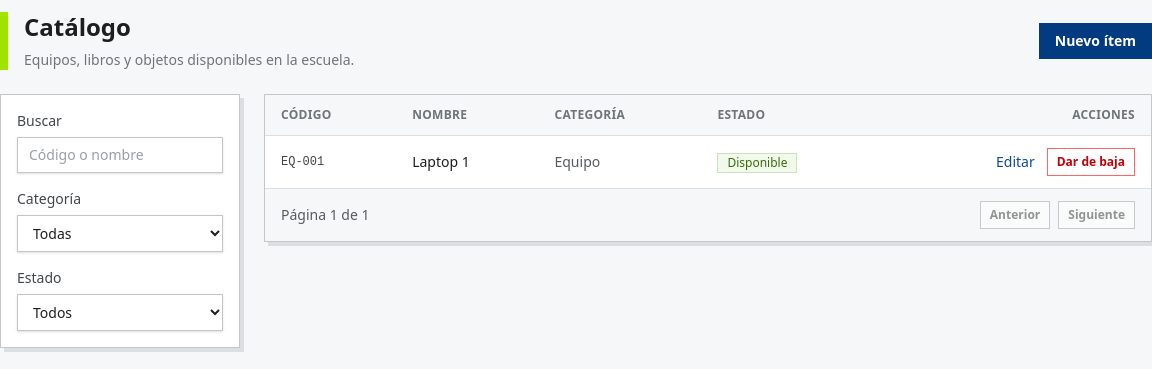
Test: CatalogPage › muestra el mensaje del backend si no se puede dar de baja
The image size is (1152, 369).
Expected: the text "Laptop 1" is shown, 412,152 -> 470,171
Step 1. Click the button "Dar de baja" → [1091, 162], box 1047,148 -> 1135,176
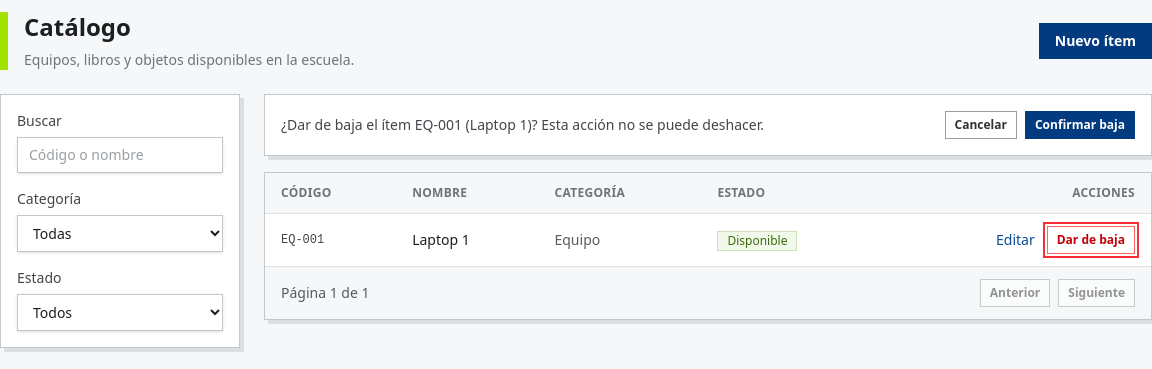
Step 2. Click the button "Confirmar baja" → [1080, 125], box 1025,111 -> 1135,139
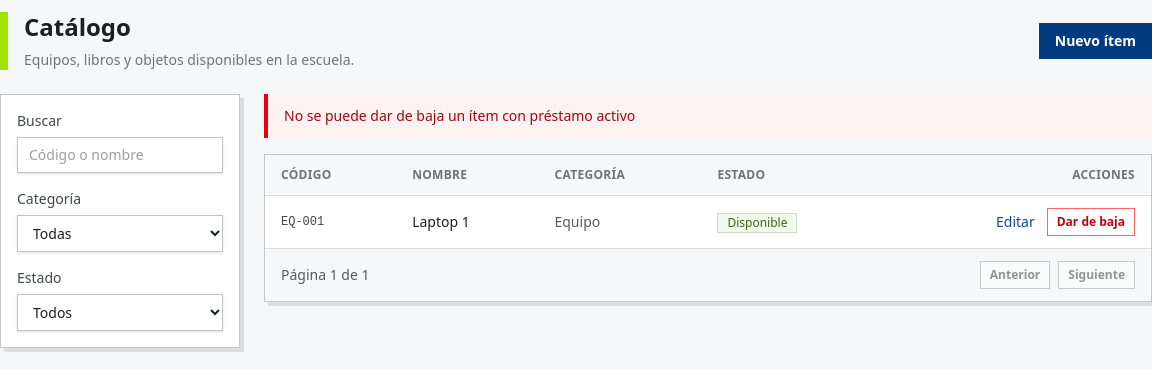
Result: the text "No se puede dar de baja un ítem con préstamo activo" is shown at 264,94 -> 1151,138
